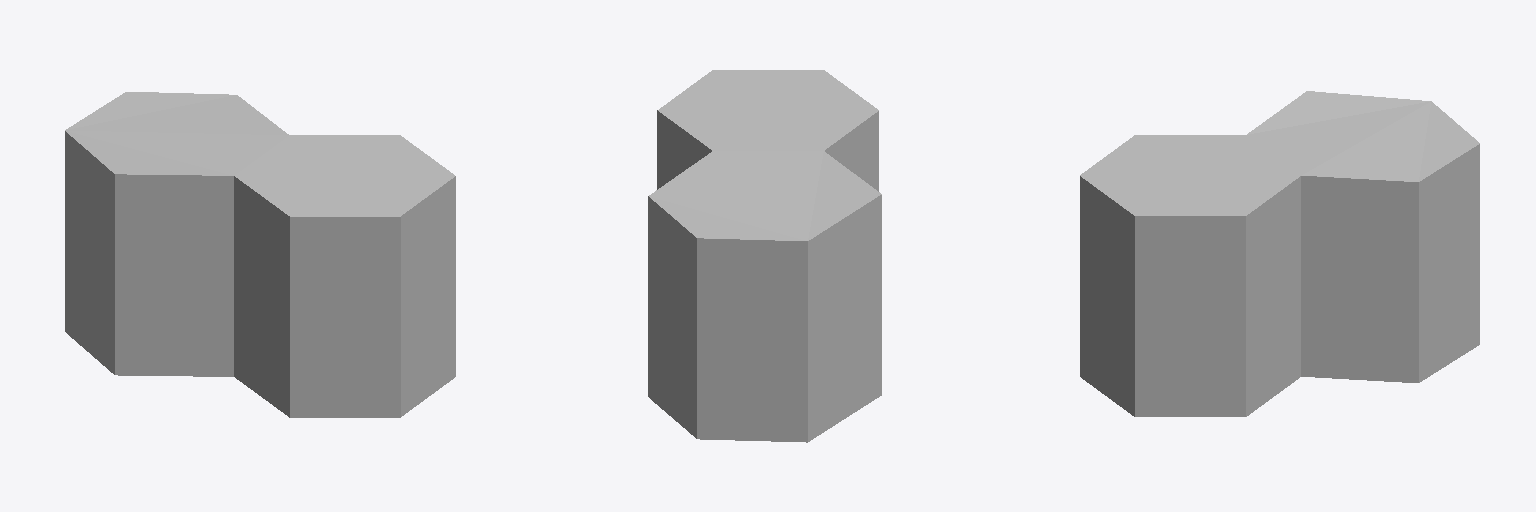
Rendered from hex2.obj.
3 views of the same model, side by side, from view 1: azimuth 30°, elevation 25°; view 2: azimuth 150°, elevation 25°; view 3: azimuth 270°, elevation 25° (orthographic).
Parts seen in each view (by area): view 1: base1, base2; view 2: base2, base1; view 3: base1, base2.
Boxes of the visible parts, x1,y1,x2,y2 form: base1: [234, 135, 455, 417]; base2: [65, 92, 288, 376]; base2: [648, 151, 881, 442]; base1: [657, 70, 878, 191]; base1: [1080, 135, 1300, 416]; base2: [1247, 91, 1479, 382].
Size of the model in its own units: 2.66 by 2.05 by 3.61.